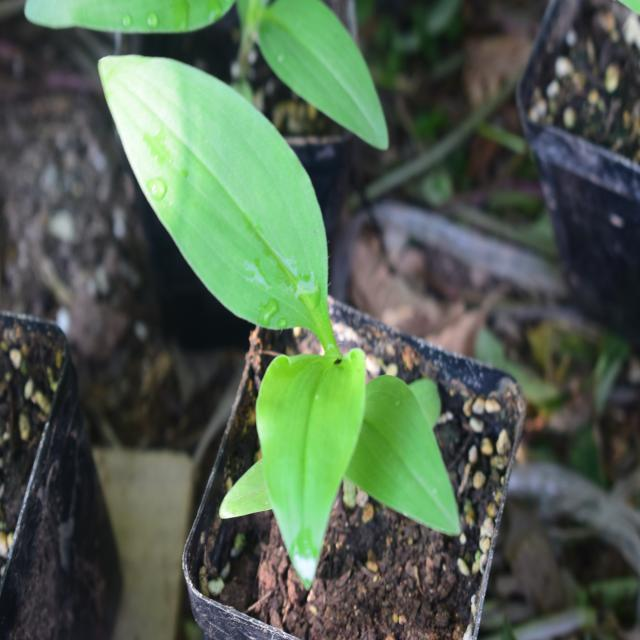Common Dayflower: (114, 48, 448, 554)
